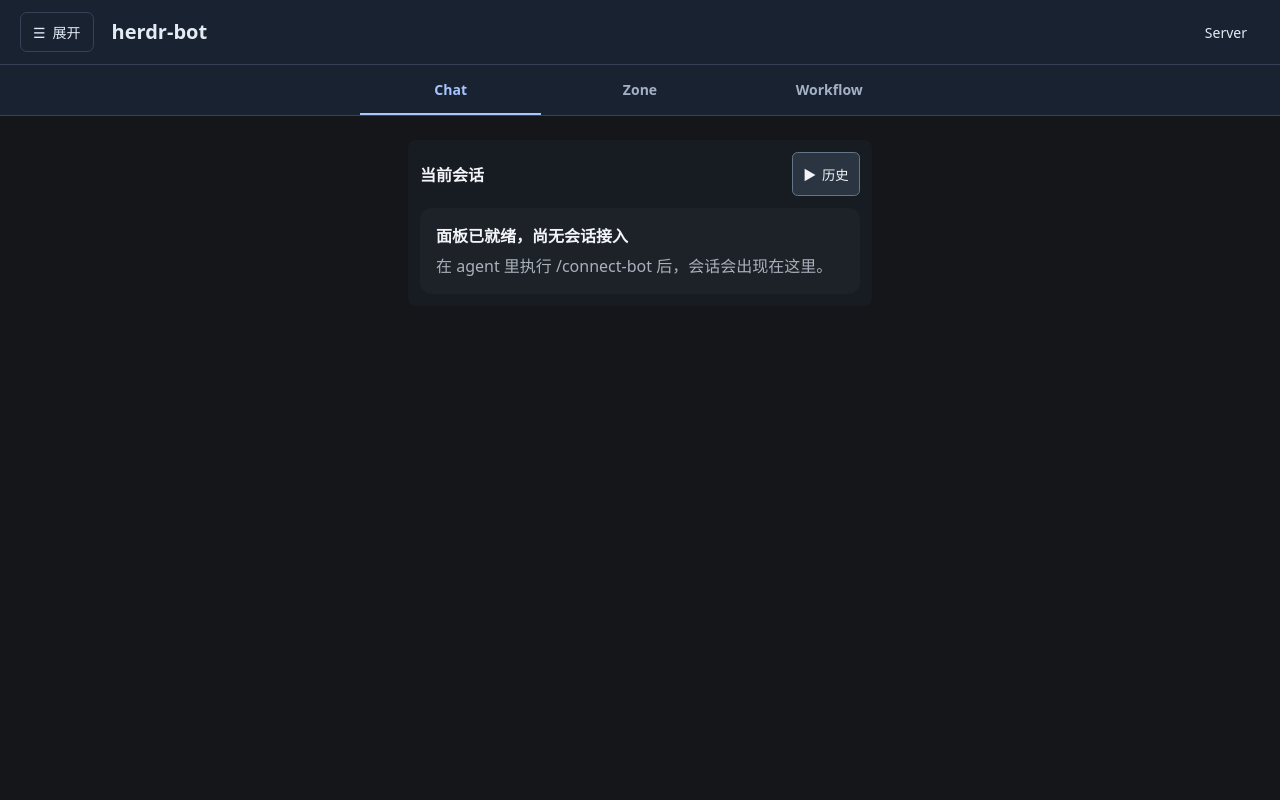
Test: 文件列表：zone 登记 › 新增失败时保留弹窗并显示后端给出的失败阶段与完整目录
Click the tab with test id "tab-files" at (640, 90), box [549, 65, 731, 115]
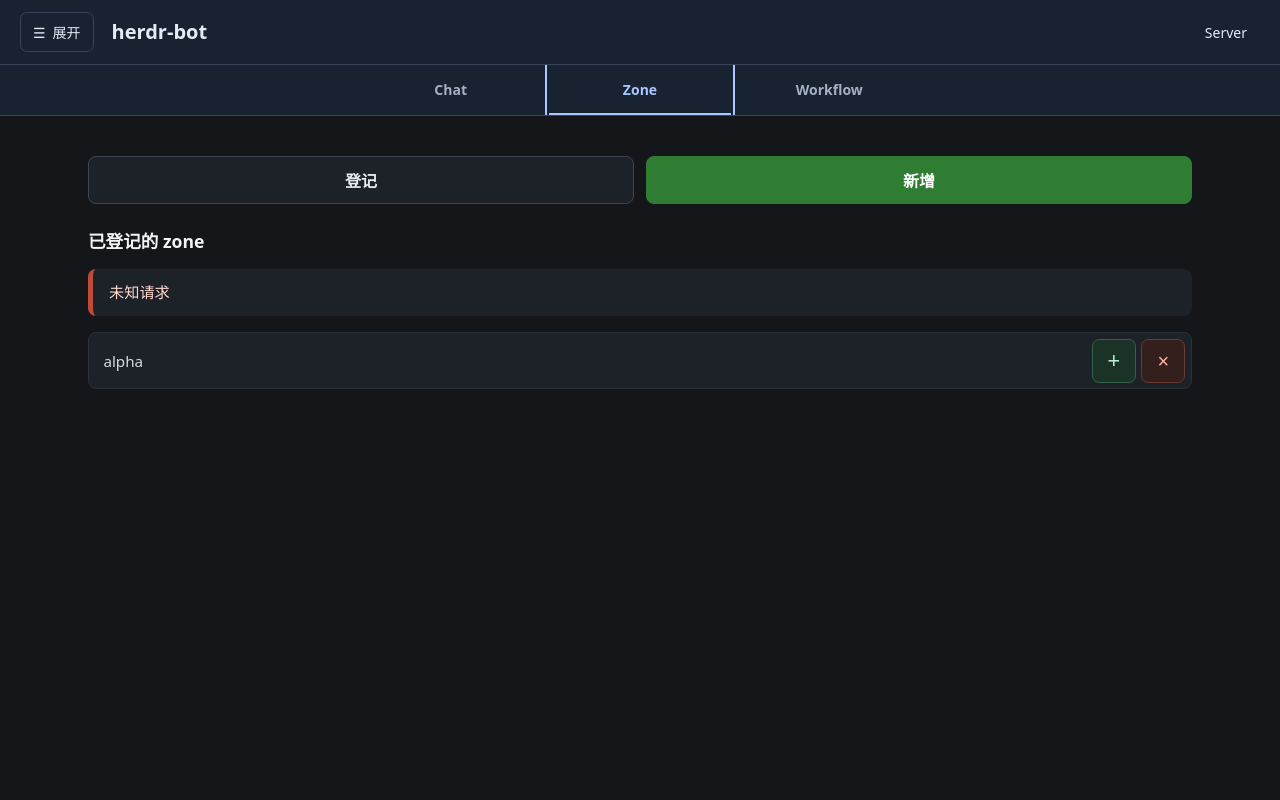
Expected: the list with test id "zone-list" is shown, [88, 332, 1192, 389]
Click the button with test id "create-open" at (919, 180), box [646, 156, 1192, 204]
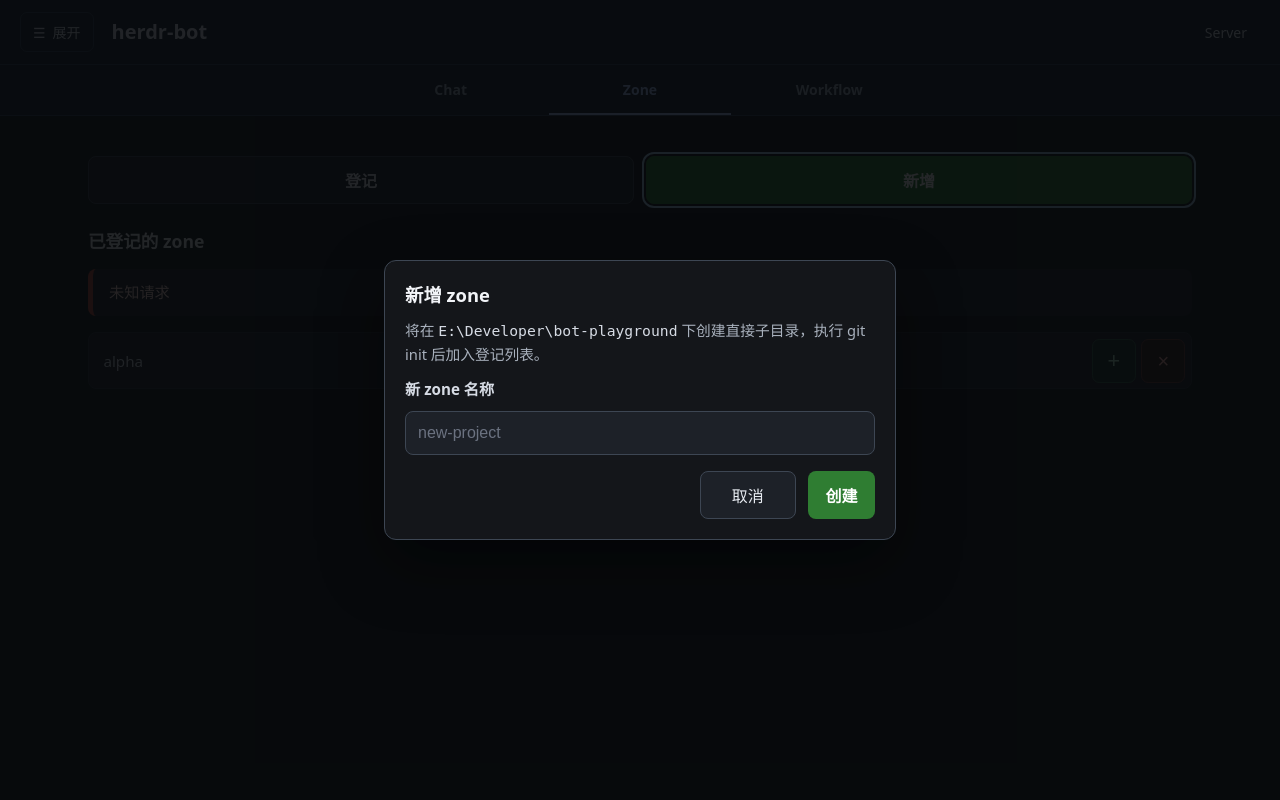
Type "kept-project" into the field labelled "新 zone 名称" at (640, 433), box [405, 411, 875, 455]
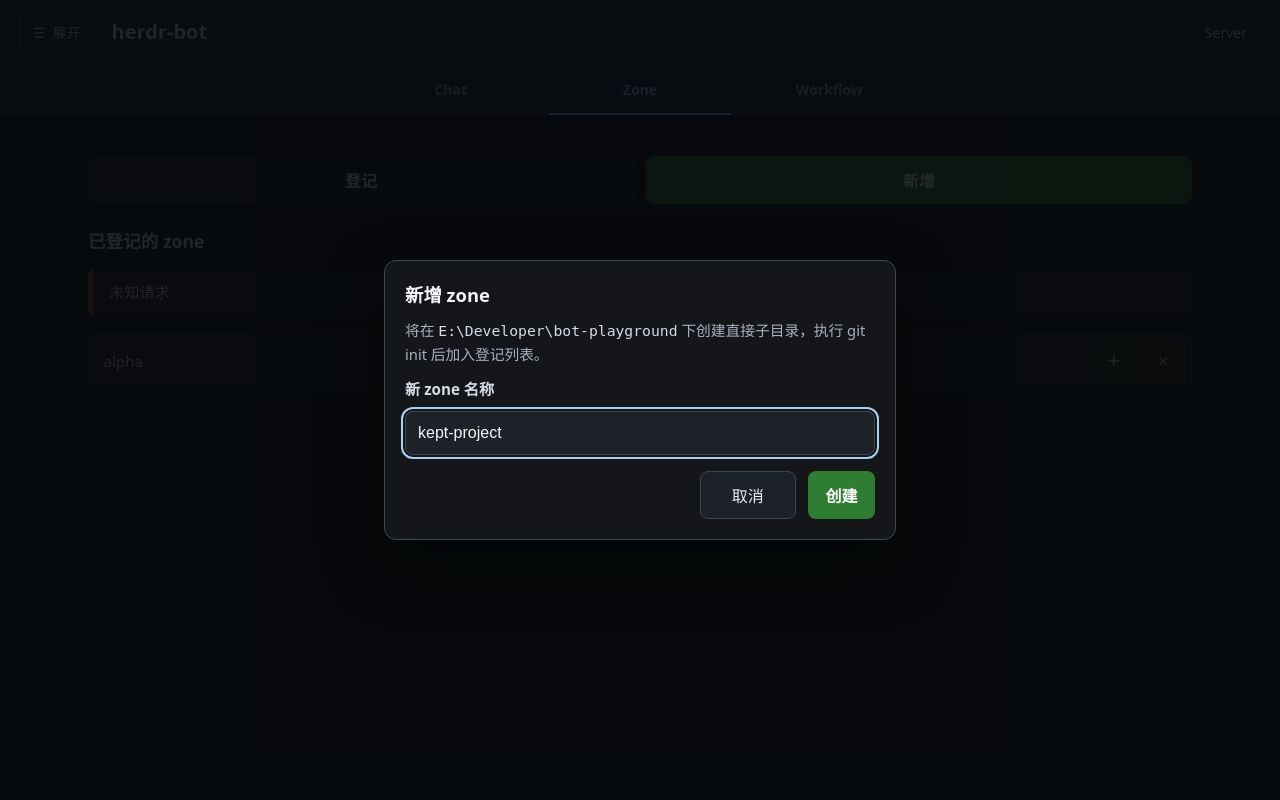
Click the button with test id "create-zone" at (841, 495), box [808, 471, 875, 519]
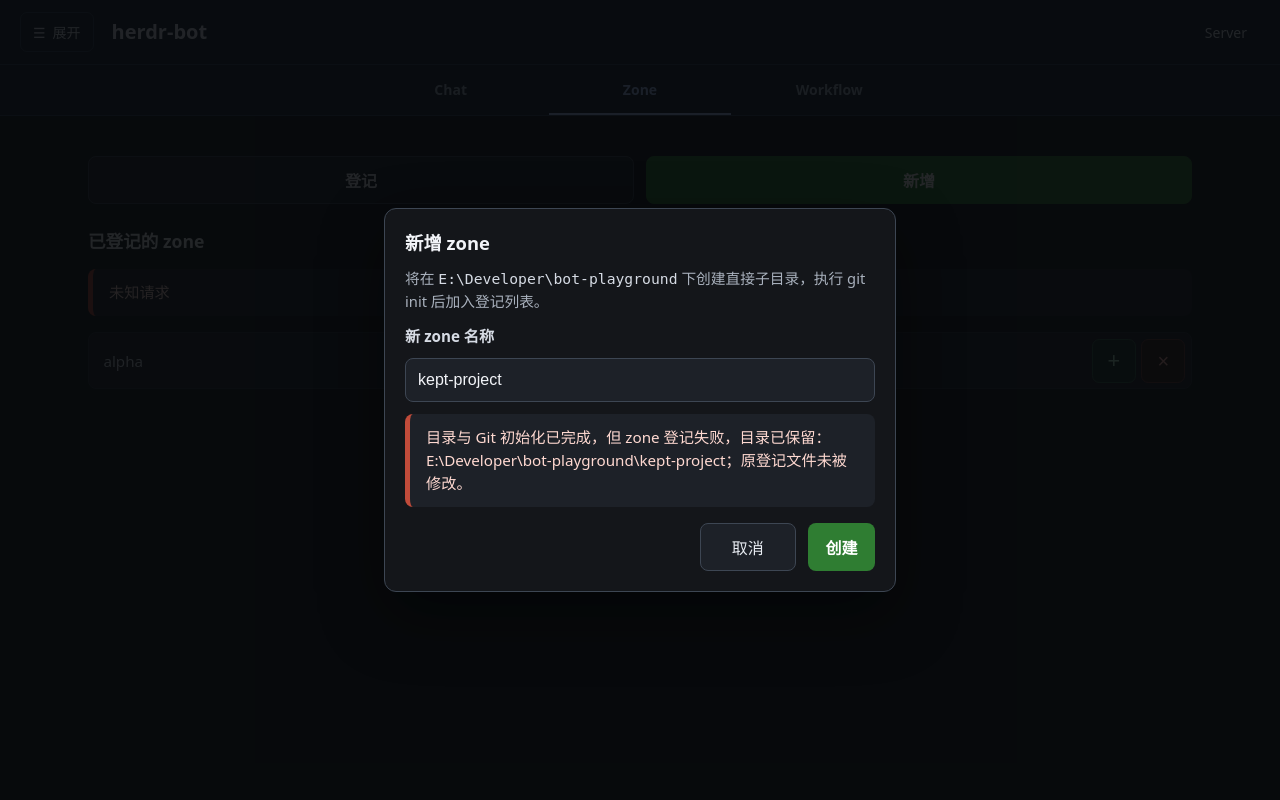
Expected: the dialog with test id "create-dialog" is shown, [384, 208, 896, 592]
Expected: the message with test id "zone-feedback" shows "目录与 Git 初始化已完成", [426, 427, 847, 493]
Expected: the message with test id "zone-feedback" shows "E:\\Developer\\bot-playground\\kept-project", [426, 427, 847, 493]
